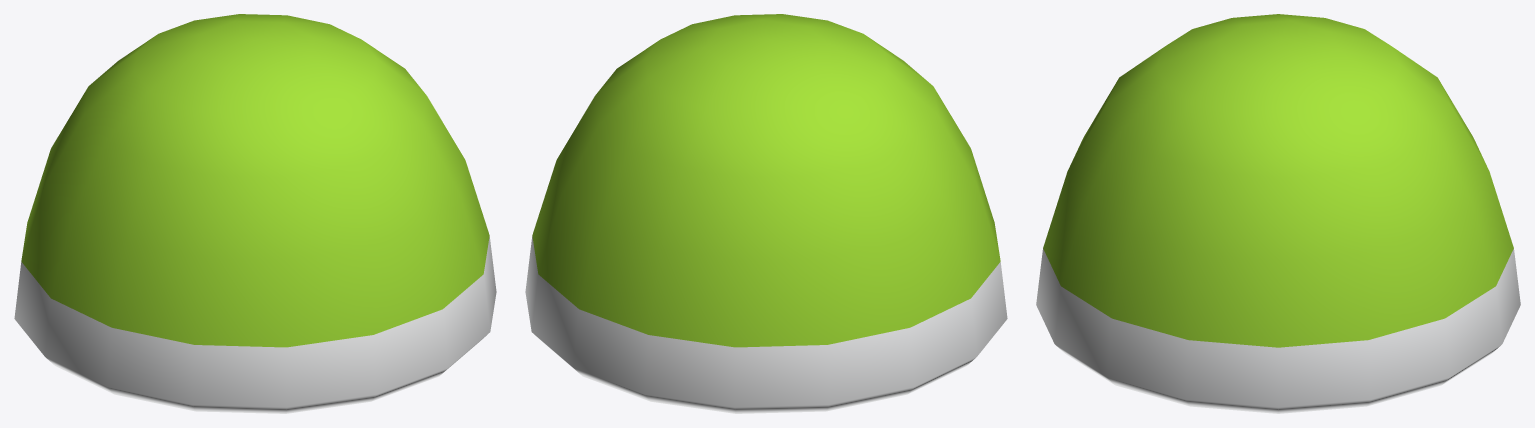
File: candy_007.glb
The picture shows the model from 3 angles, left to right: view 1: azimuth 30°, elevation 25°; view 2: azimuth 150°, elevation 25°; view 3: azimuth 270°, elevation 25°; orthographic projection.
Parts seen in each view (by area): view 1: candy_007; view 2: candy_007; view 3: candy_007.
Boxes of the visible parts, <box> form: candy_007: <box>14,14,496,413</box>; candy_007: <box>525,14,1007,413</box>; candy_007: <box>1036,14,1520,413</box>.
Size of the model in its own units: 2.04 by 1.28 by 2.04.
1 material, 1 textured.
